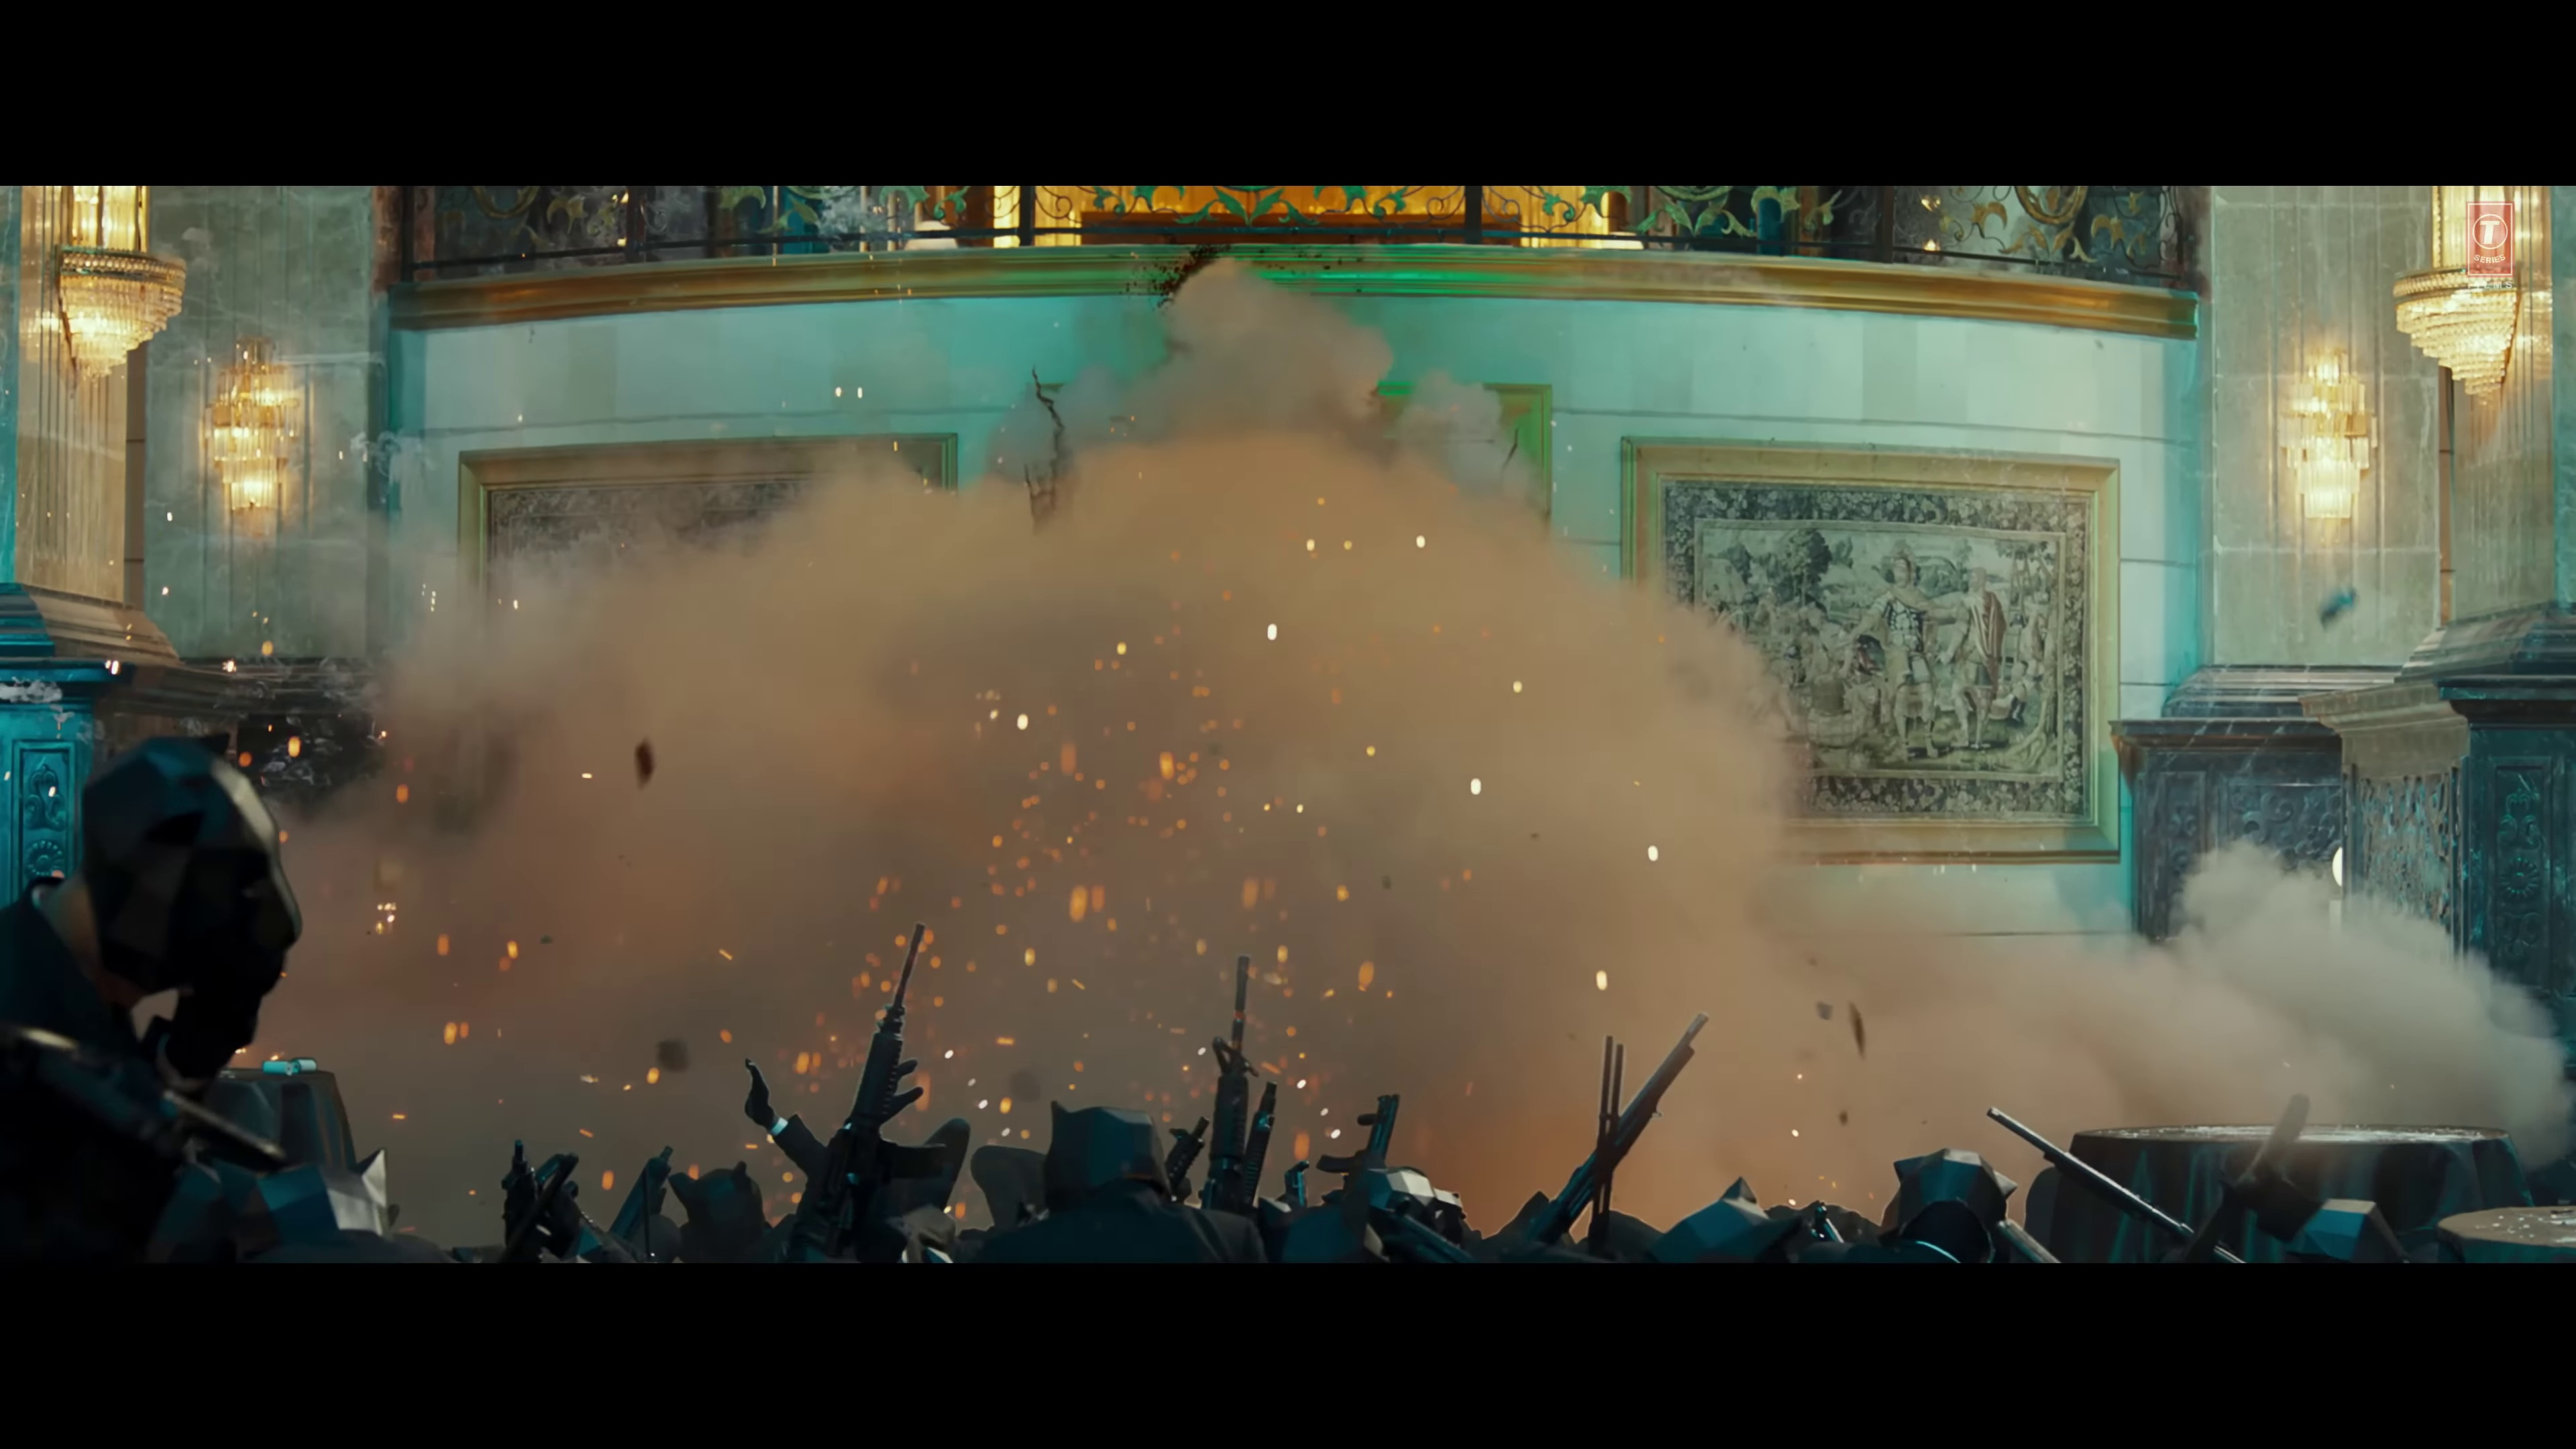gun: (805, 920, 954, 1260)
